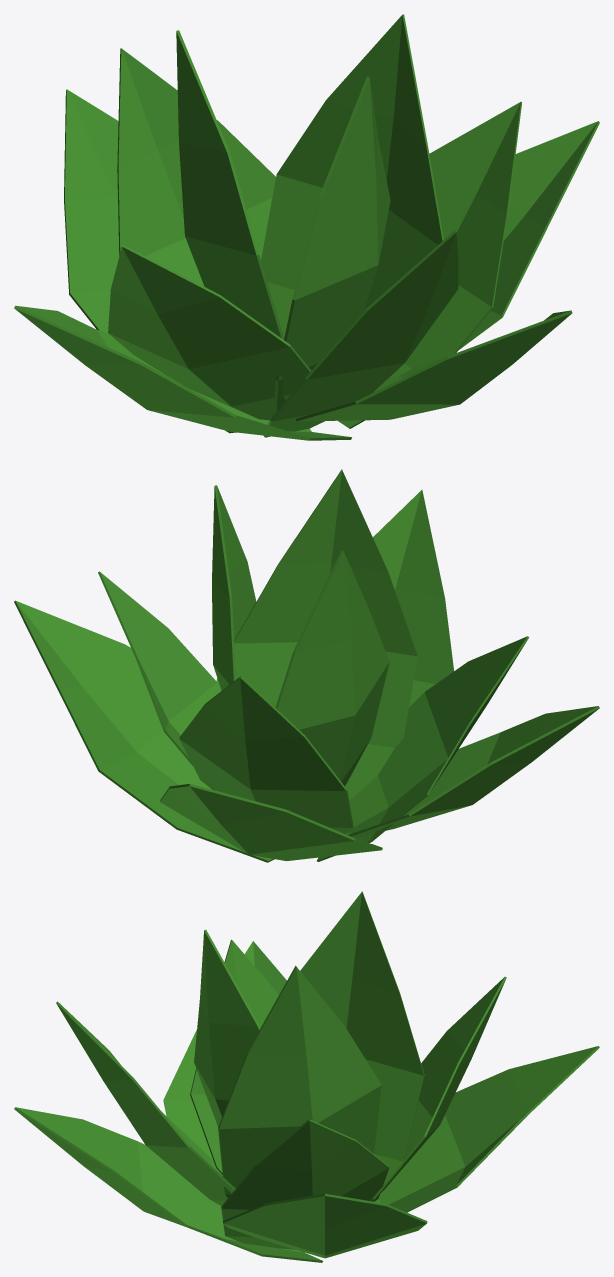
The model's file is Grass_32.fbx.
3 renders of one model, top to bottom at view 1: azimuth 30°, elevation 25°; view 2: azimuth 150°, elevation 25°; view 3: azimuth 270°, elevation 25°, orthographic. The views are drawn at different scales.
Visible parts, largest first — view 1: Grass_32; view 2: Grass_32; view 3: Grass_32.
Part boxes in pixels (x1,y1,x2,y2): Grass_32: (14,14,599,440); Grass_32: (14,469,599,862); Grass_32: (14,891,599,1262).
Bounding box in the file's own units: 132 × 77.6 × 129.
